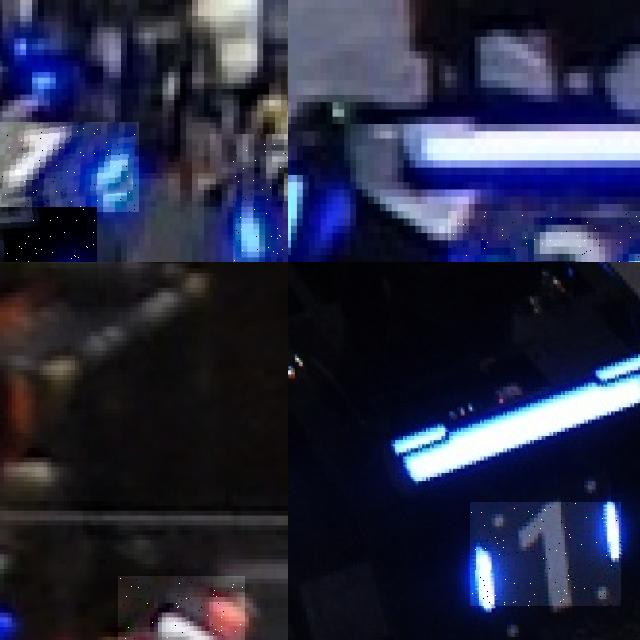B1: (470, 502, 621, 606), (0, 122, 138, 212), (233, 134, 288, 262)
B3: (447, 211, 640, 262)
R1: (118, 576, 244, 640)
